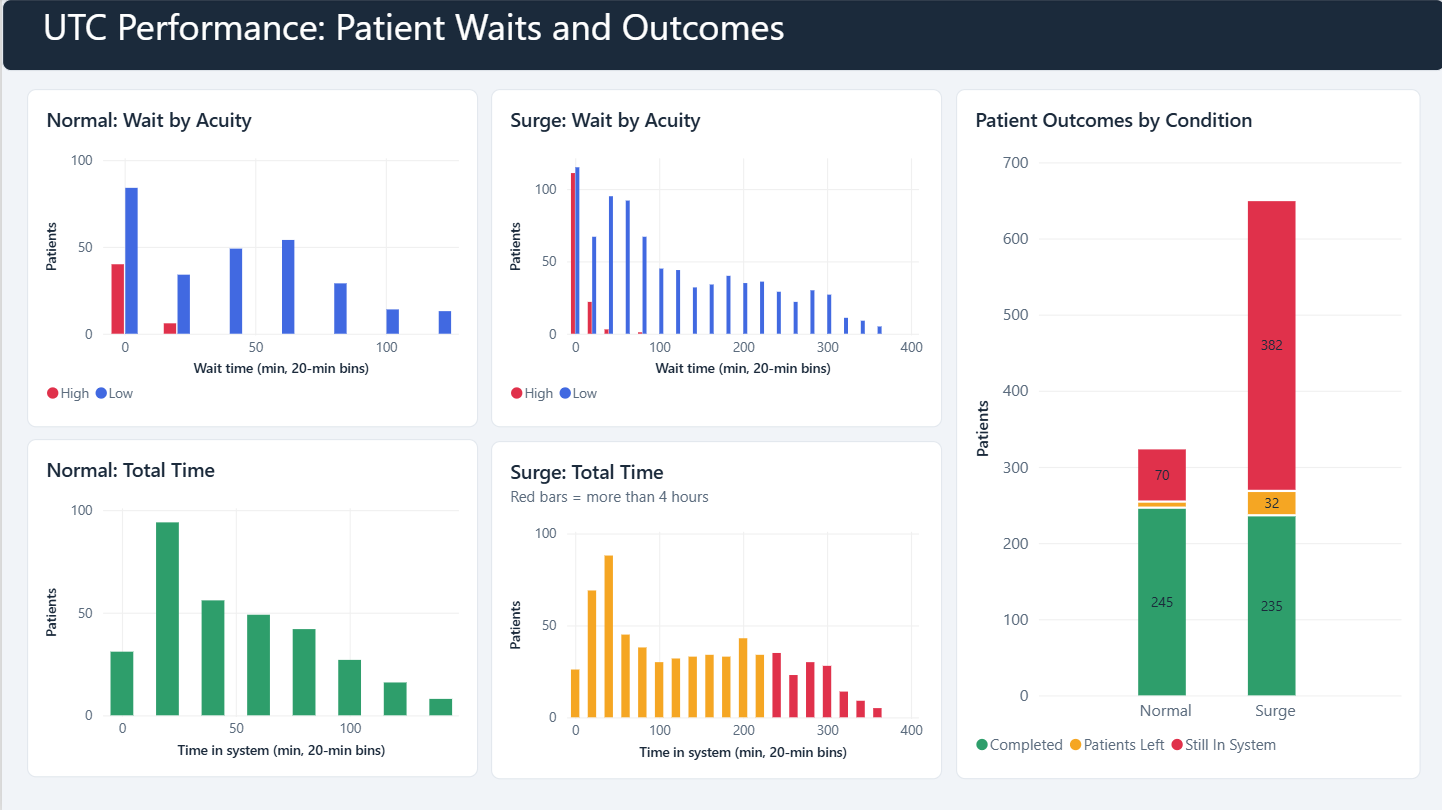

Layout of this report page (visuals, bound fields, positions):
{"tool":"powerbi","page":{"name":"Patients","canvas":[1280,720],"ordinal":2},"visuals":[{"type":"textbox","box":[0,0,1280,64],"z":0},{"type":"clusteredColumnChart","title":"Normal: Wait by Acuity","fields":{"Category":["Patients.Wait_Bin"],"Series":["Patients.Acuity"],"Y":["CountNonNull(Patients.Patient_ID)"]},"box":[22,80,400,300],"z":1},{"type":"clusteredColumnChart","title":"Surge: Wait by Acuity","fields":{"Category":["Patients.Wait_Bin"],"Series":["Patients.Acuity"],"Y":["CountNonNull(Patients.Patient_ID)"]},"box":[434,80,400,300],"z":2},{"type":"clusteredColumnChart","title":"Normal: Total Time","fields":{"Category":["Patients.Time_Bin"],"Y":["CountNonNull(Patients.Patient_ID)"]},"box":[22,390,400,300],"z":3},{"type":"clusteredColumnChart","title":"Surge: Total Time","fields":{"Category":["Patients.Time_Bin"],"Y":["CountNonNull(Patients.Patient_ID)"]},"box":[434,392,400,300],"z":4},{"type":"columnChart","title":"Patient Outcomes by Condition","fields":{"Category":["Dim_Condition.Condition"],"Y":["_Measures.Completed","_Measures.Patients Left","_Measures.Still In System"]},"box":[846,80,412,612],"z":5}]}

Visuals, with their boxes in screenshot pixels (x1, y1, x2, y2), scaled from the page's 1280x720 canvas onto the 1442x810 screenshot:
textbox: 0,0,1441,72
"Normal: Wait by Acuity" clusteredColumnChart: 25,90,475,428
"Surge: Wait by Acuity" clusteredColumnChart: 489,90,940,428
"Normal: Total Time" clusteredColumnChart: 25,439,475,776
"Surge: Total Time" clusteredColumnChart: 489,441,940,778
"Patient Outcomes by Condition" columnChart: 953,90,1417,778
